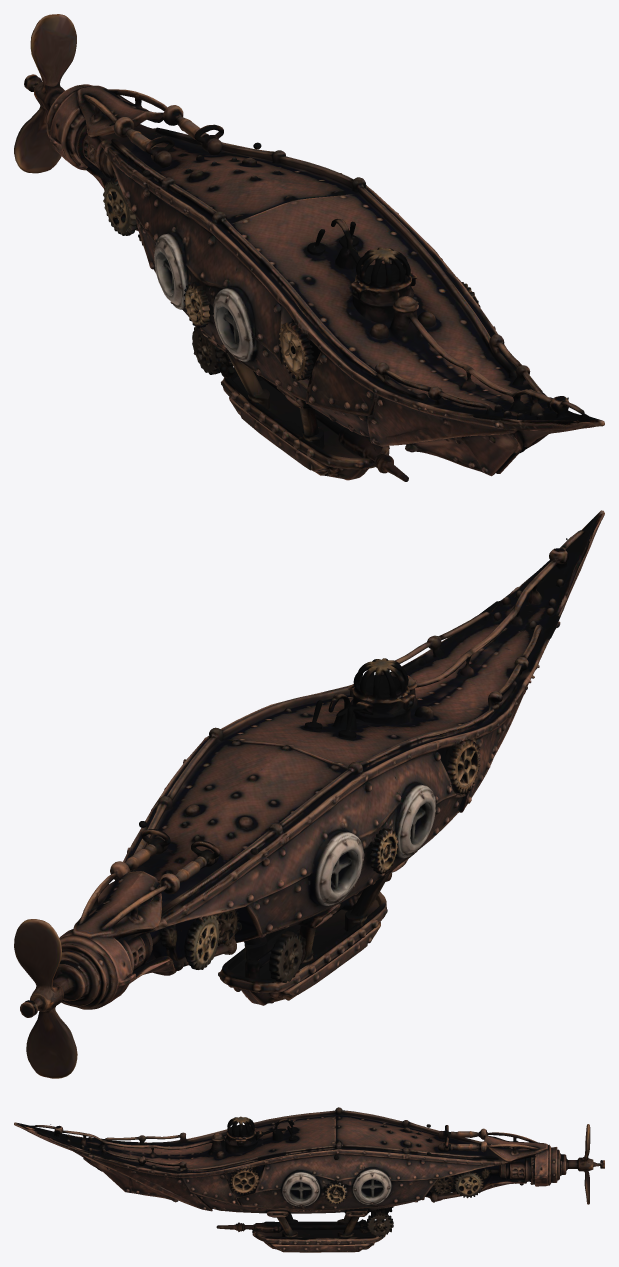
3 renders of one model, top to bottom at view 1: azimuth 30°, elevation 25°; view 2: azimuth 150°, elevation 25°; view 3: azimuth 270°, elevation 25°, orthographic. The views are drawn at different scales.
Parts seen in each view (by area): view 1: geometry_0; view 2: geometry_0; view 3: geometry_0.
Boxes of the visible parts, x1=… form: geometry_0: x1=14, y1=14, x2=604, y2=481; geometry_0: x1=14, y1=510, x2=604, y2=1078; geometry_0: x1=14, y1=1107, x2=604, y2=1252.
Bounding box in the file's own units: 0.2029 × 0.2464 × 1.
Materials: 1 (1 with a texture image).
